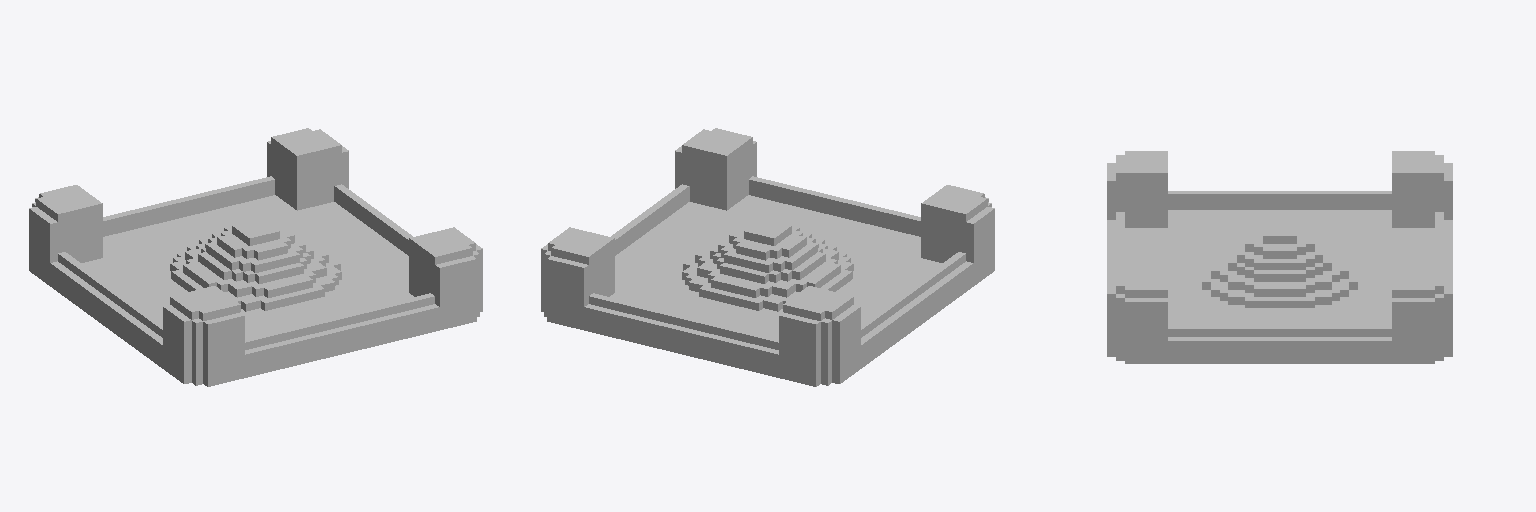
The model's file is Mine.obj.
3 renders of one model, left to right at view 1: azimuth 30°, elevation 25°; view 2: azimuth 150°, elevation 25°; view 3: azimuth 270°, elevation 25°, orthographic.
Visible parts, largest first — view 1: object 1; view 2: object 1; view 3: object 1.
Boxes of the visible parts, box(x1,y1,x2,y2) form: object 1: box(29, 128, 482, 386); object 1: box(541, 128, 994, 386); object 1: box(1107, 151, 1452, 363).
Bounding box in the file's own units: 4 × 0.9 × 4.